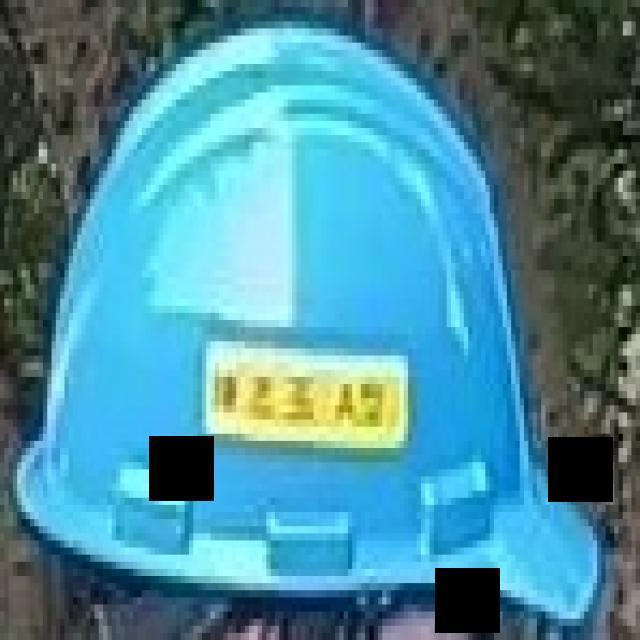blue helmet: (20, 18, 608, 620)
